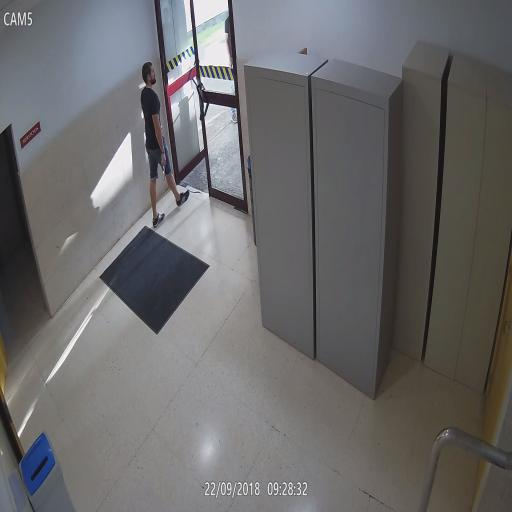Handgun: (160, 153, 167, 181)
